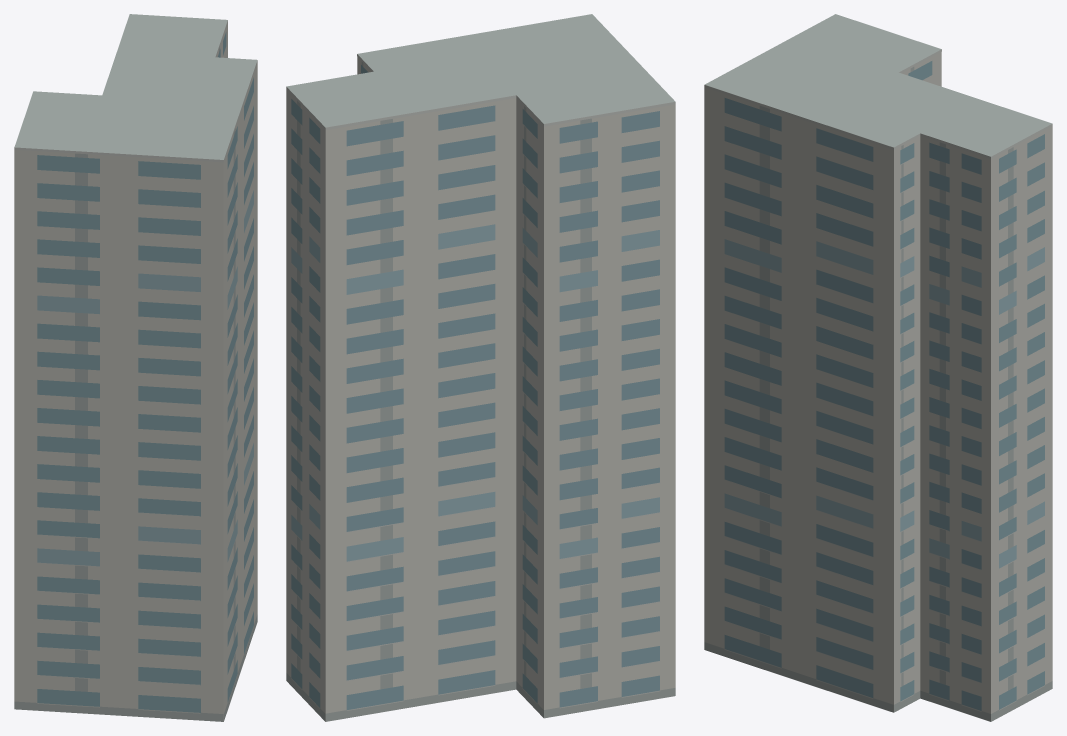
Rendered from residential-7ee35a3a-9d1b-4bf8-9c0d-766484dd58e3.glb.
The picture shows the model from 3 angles, left to right: view 1: azimuth 30°, elevation 25°; view 2: azimuth 150°, elevation 25°; view 3: azimuth 270°, elevation 25°; orthographic projection. The views are drawn at different scales.
Parts seen in each view (by area): view 1: residential-7ee35a3a-9d1b-4bf8-9c0d-766484dd58e3.tmp; view 2: residential-7ee35a3a-9d1b-4bf8-9c0d-766484dd58e3.tmp; view 3: residential-7ee35a3a-9d1b-4bf8-9c0d-766484dd58e3.tmp.
Part boxes in pixels (x1,y1,x2,y2): residential-7ee35a3a-9d1b-4bf8-9c0d-766484dd58e3.tmp: (14,14,257,721); residential-7ee35a3a-9d1b-4bf8-9c0d-766484dd58e3.tmp: (286,14,675,721); residential-7ee35a3a-9d1b-4bf8-9c0d-766484dd58e3.tmp: (704,14,1052,721).
Bounding box in the file's own units: 30.89 × 57 × 31.85.
